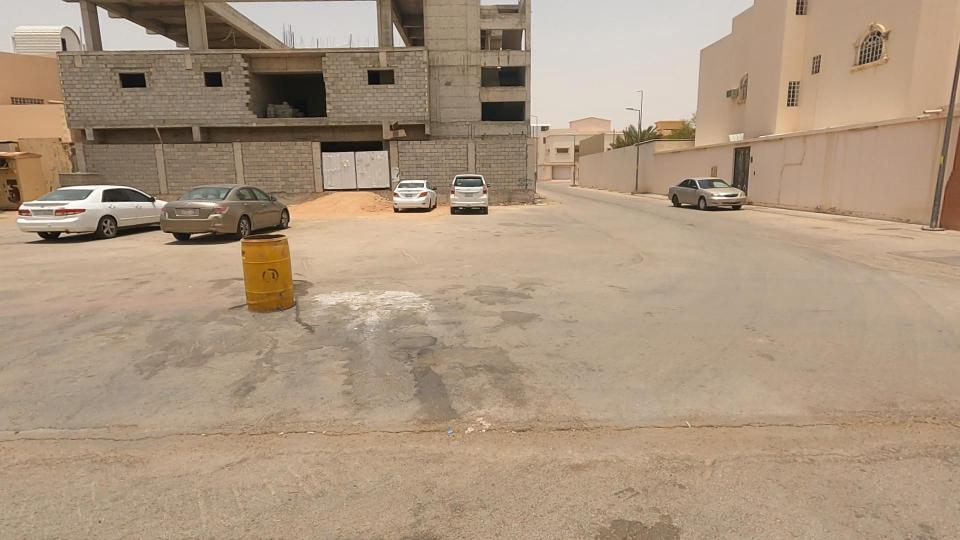POTHOLES: (372, 348, 726, 502), (179, 382, 489, 494)
SAND_ON_ROAD: (277, 160, 415, 255)
